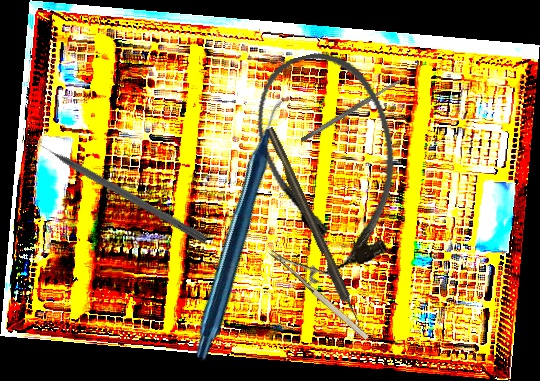Cannula: (241, 39, 421, 282)
Handpiece: (103, 93, 388, 364)
Hook Surgical: (264, 126, 363, 328)
Needle Holder: (267, 229, 385, 344)
Pusher: (25, 131, 210, 246)
Spatula Surgical: (299, 77, 405, 143)
